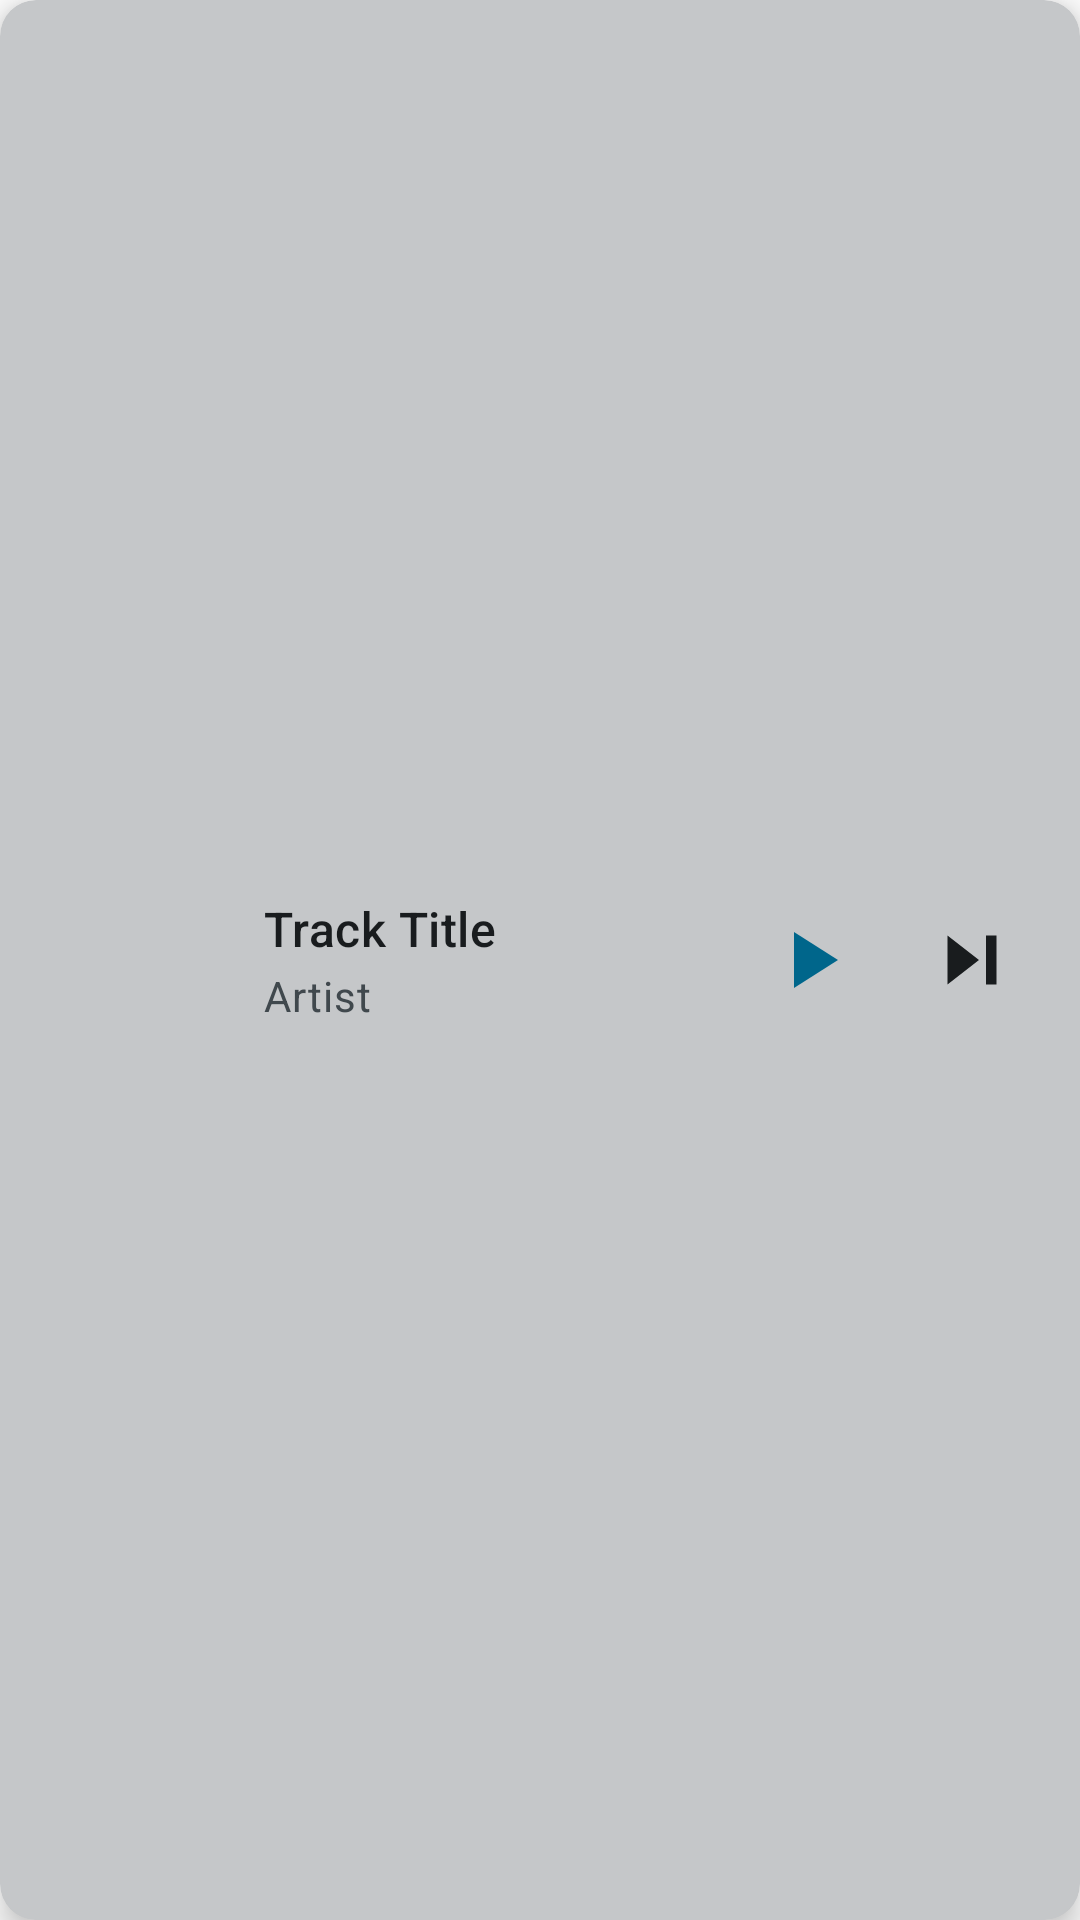

Icon click points for this 1080×1920 phone screenshot, format point (x, y):
next: point (972, 960)
play: point (816, 960)
